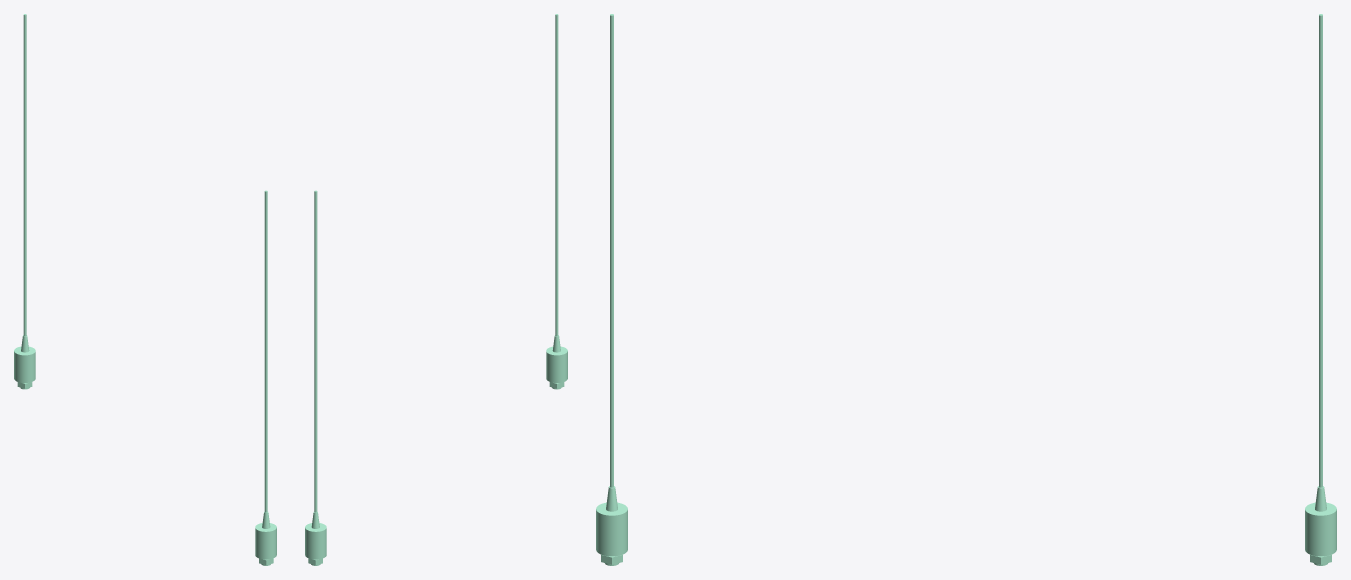
Rendered from OUTFITTING_INTERIOR__EXT. INSTRUMENTS__AFT STBD MAST__Shakespeare 5215-AIS Squatty Body 36_ VHF-AIS Antenna Whip.glb.
3 views of the same model, side by side, from view 1: azimuth 30°, elevation 25°; view 2: azimuth 150°, elevation 25°; view 3: azimuth 270°, elevation 25° (orthographic). The views are drawn at different scales.
Parts seen in each view (by area): view 1: Shakespeare 5215-AIS Squatty Body 36" VHF-AIS Antenna Whip; view 2: Shakespeare 5215-AIS Squatty Body 36" VHF-AIS Antenna Whip; view 3: Shakespeare 5215-AIS Squatty Body 36" VHF-AIS Antenna Whip.
Boxes of the visible parts, x1,y1,x2,y2 form: Shakespeare 5215-AIS Squatty Body 36" VHF-AIS Antenna Whip: [14, 14, 276, 565]; Shakespeare 5215-AIS Squatty Body 36" VHF-AIS Antenna Whip: [305, 14, 567, 565]; Shakespeare 5215-AIS Squatty Body 36" VHF-AIS Antenna Whip: [596, 14, 1336, 565].
Size of the model in its own units: 0.0558 by 1.06 by 1.3.
